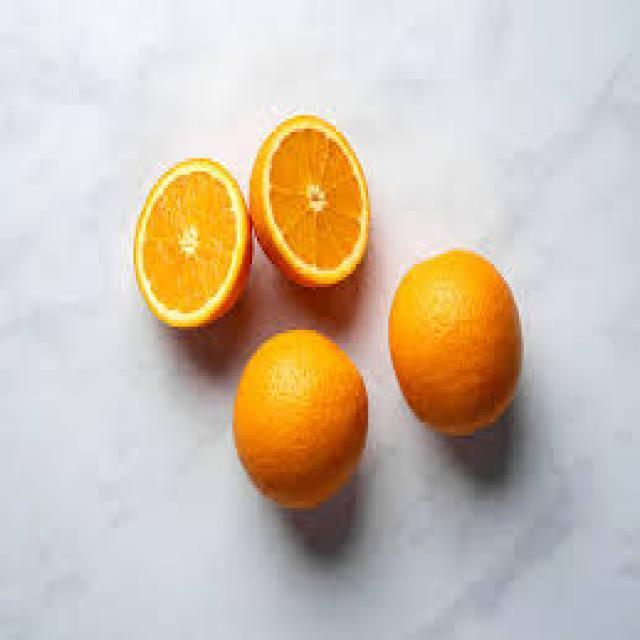Orange: (386, 248, 524, 436), (230, 326, 368, 508), (248, 112, 370, 287), (131, 156, 252, 327)
